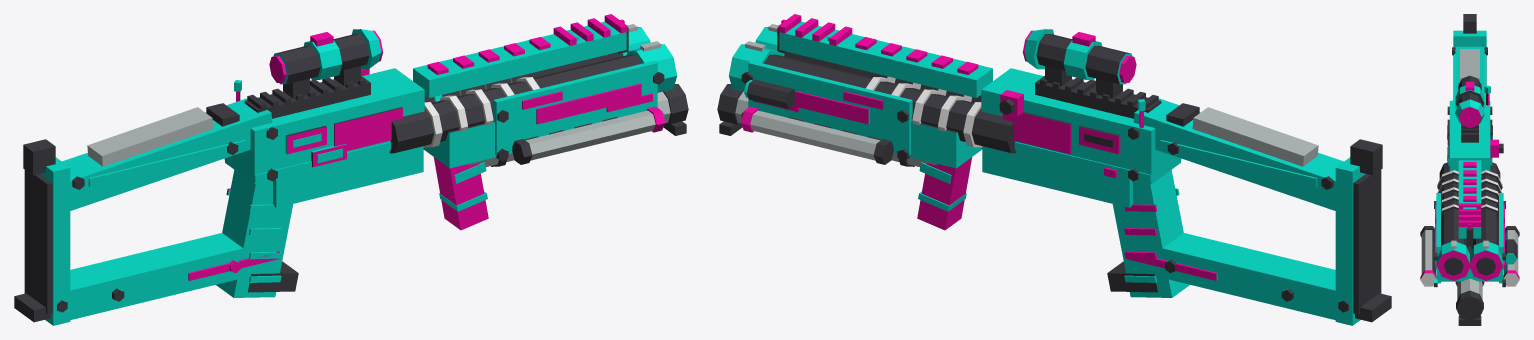
The model's file is escopeta by sebita 1.fbx.
3 views of the same model, side by side, from view 1: azimuth 30°, elevation 25°; view 2: azimuth 150°, elevation 25°; view 3: azimuth 270°, elevation 25° (orthographic). The views are drawn at different scales.
Visible parts, largest first — view 1: Escopeta_Cyberpunk_LowPoly_v2; view 2: Escopeta_Cyberpunk_LowPoly_v2; view 3: Escopeta_Cyberpunk_LowPoly_v2.
Boxes of the visible parts, x1,y1,x2,y2 form: Escopeta_Cyberpunk_LowPoly_v2: (14, 14, 688, 325); Escopeta_Cyberpunk_LowPoly_v2: (717, 14, 1391, 325); Escopeta_Cyberpunk_LowPoly_v2: (1420, 14, 1519, 325).
Size of the model in its own units: 2.89 by 1.01 by 0.555.
